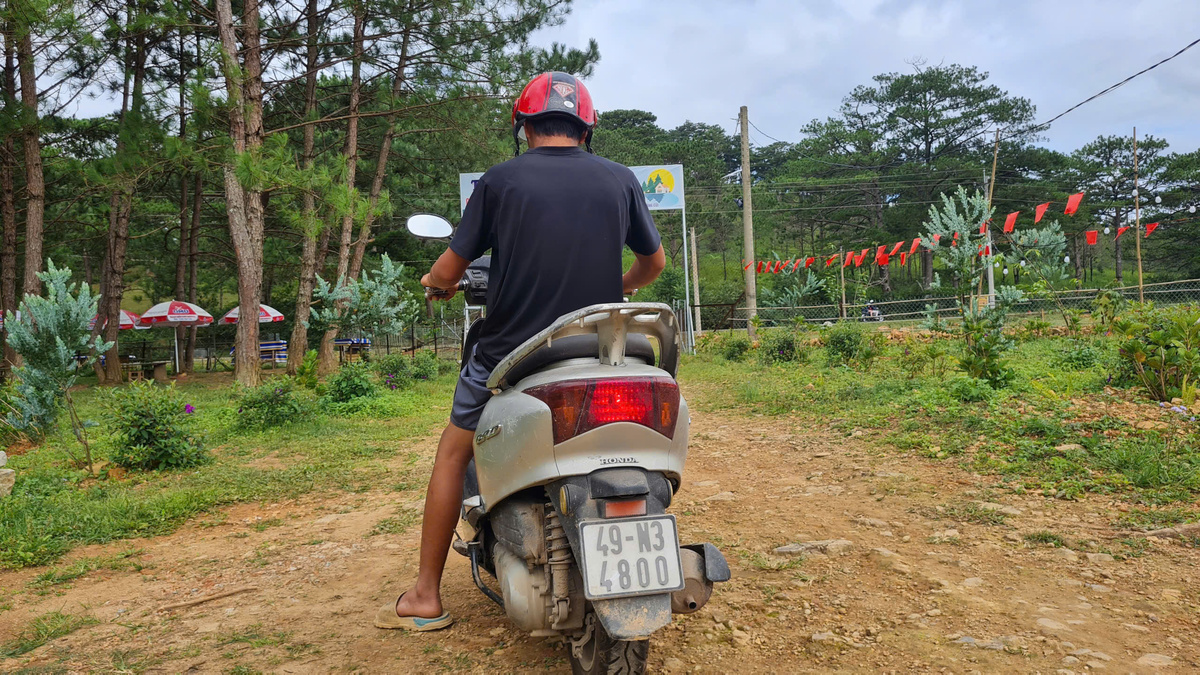Bien-so: (579, 512, 682, 605)
